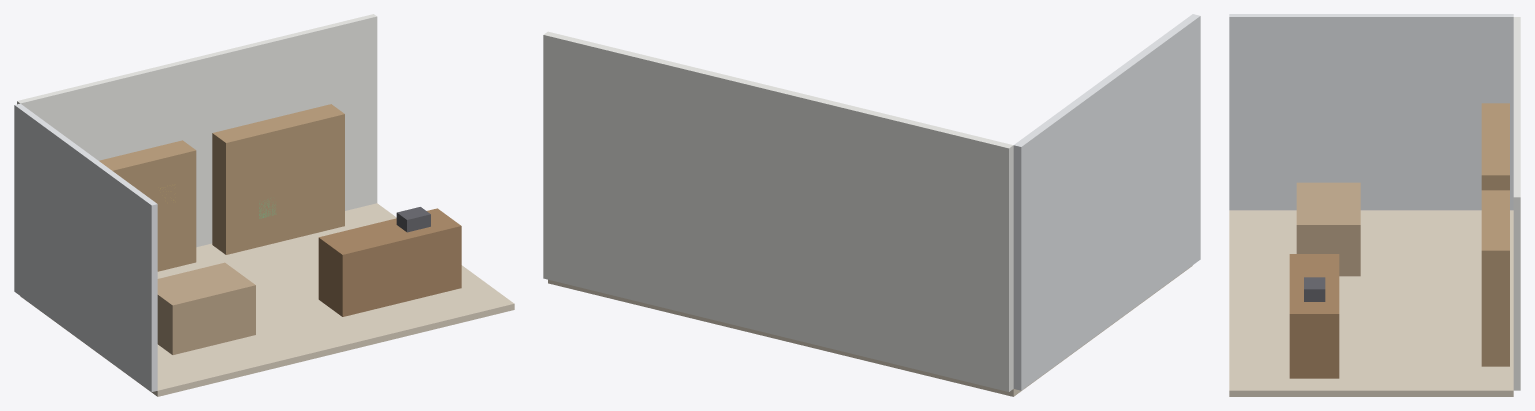
Rendered from demo_shop.glb.
3 views of the same model, side by side, from view 1: azimuth 30°, elevation 25°; view 2: azimuth 150°, elevation 25°; view 3: azimuth 270°, elevation 25° (orthographic). The views are drawn at different scales.
Visible parts, largest first — view 1: demo_shop; view 2: demo_shop; view 3: demo_shop.
Boxes of the visible parts, x1,y1,x2,y2 form: demo_shop: (14, 14, 514, 396); demo_shop: (543, 14, 1200, 396); demo_shop: (1229, 14, 1520, 396).
Bounding box in the file's own units: 6.1 × 3.1 × 4.1.
